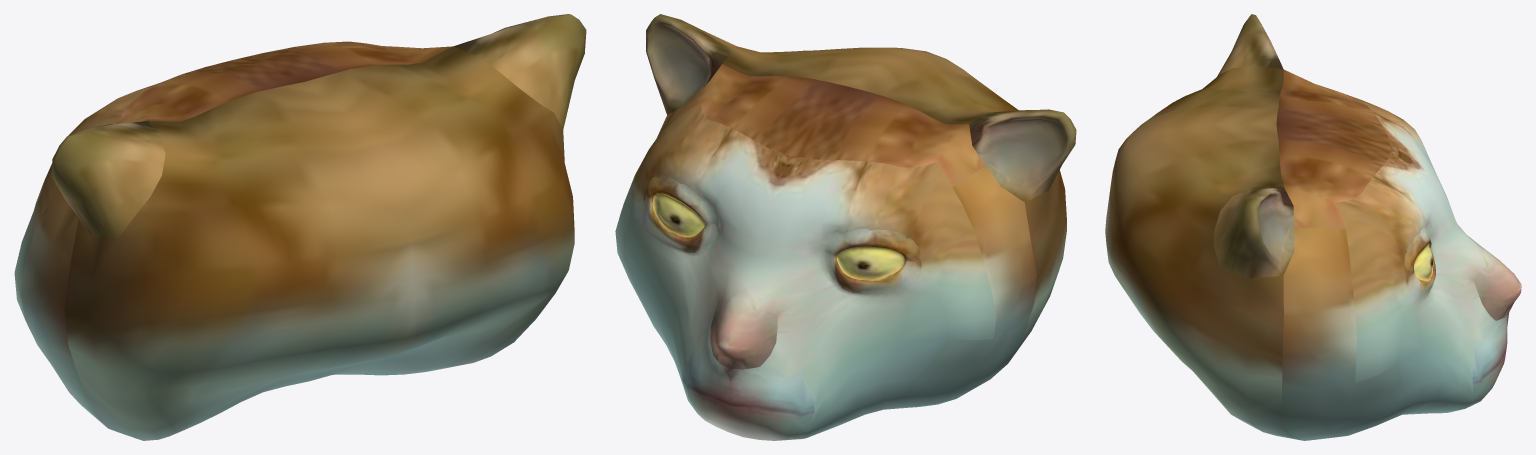
The model's file is Monday Cat.glb.
3 views of the same model, side by side, from view 1: azimuth 30°, elevation 25°; view 2: azimuth 150°, elevation 25°; view 3: azimuth 270°, elevation 25° (orthographic). The views are drawn at different scales.
Parts seen in each view (by area): view 1: Cube; view 2: Cube; view 3: Cube.
Part boxes in pixels (x1,y1,x2,y2): Cube: [14, 14, 586, 440]; Cube: [615, 14, 1076, 440]; Cube: [1105, 14, 1521, 440].
Size of the model in its own units: 1.4 by 0.9286 by 1.22.
Materials: 1 (1 with a texture image).
